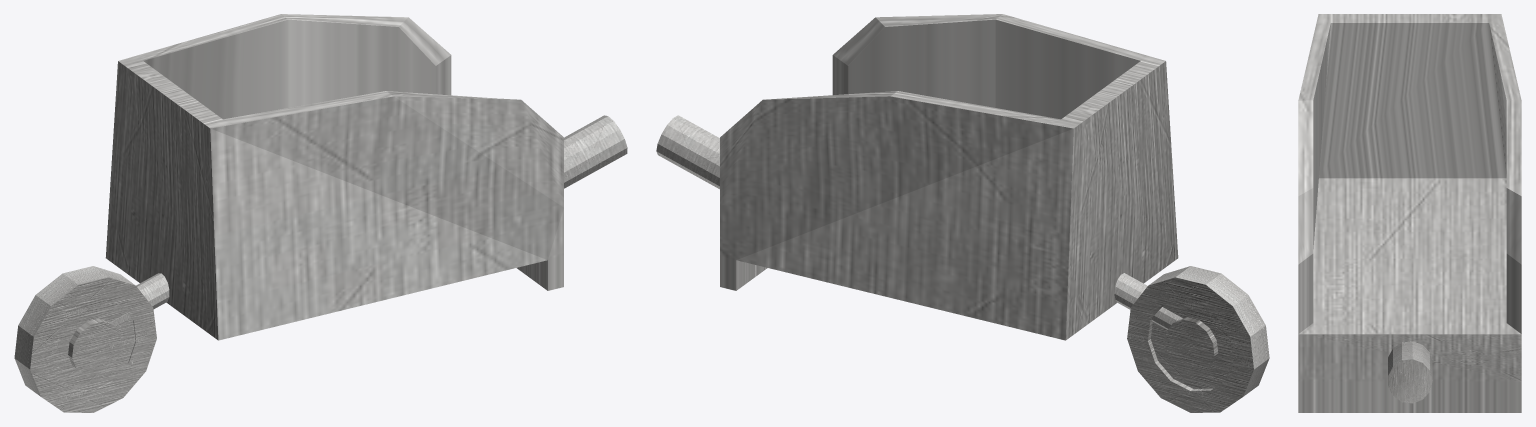
File: Schubkarre.obj
The picture shows the model from 3 angles, left to right: view 1: azimuth 30°, elevation 25°; view 2: azimuth 150°, elevation 25°; view 3: azimuth 270°, elevation 25°; orthographic projection.
Visible parts, largest first — view 1: Schubkarre; view 2: Schubkarre; view 3: Schubkarre.
Boxes of the visible parts, x1,y1,x2,y2 form: Schubkarre: [14, 14, 627, 412]; Schubkarre: [656, 14, 1269, 412]; Schubkarre: [1298, 14, 1521, 412].
Size of the model in its own units: 3.74 by 1.75 by 1.22.
Materials: 1 (1 with a texture image).
